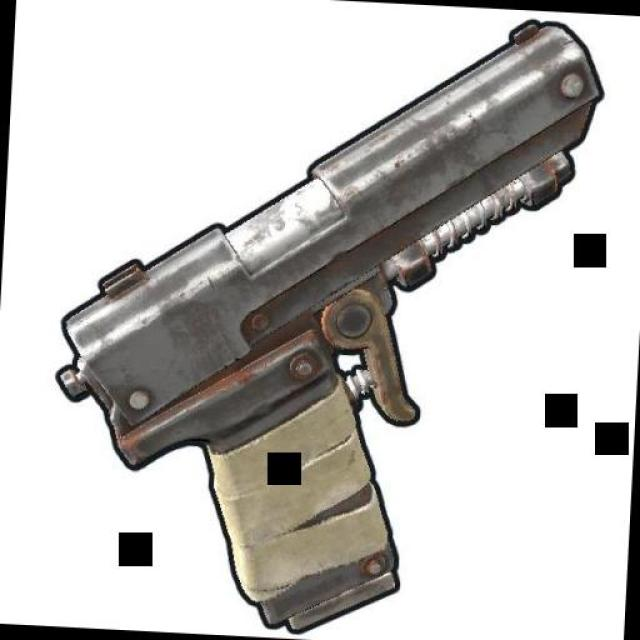gun: (58, 0, 606, 638)
